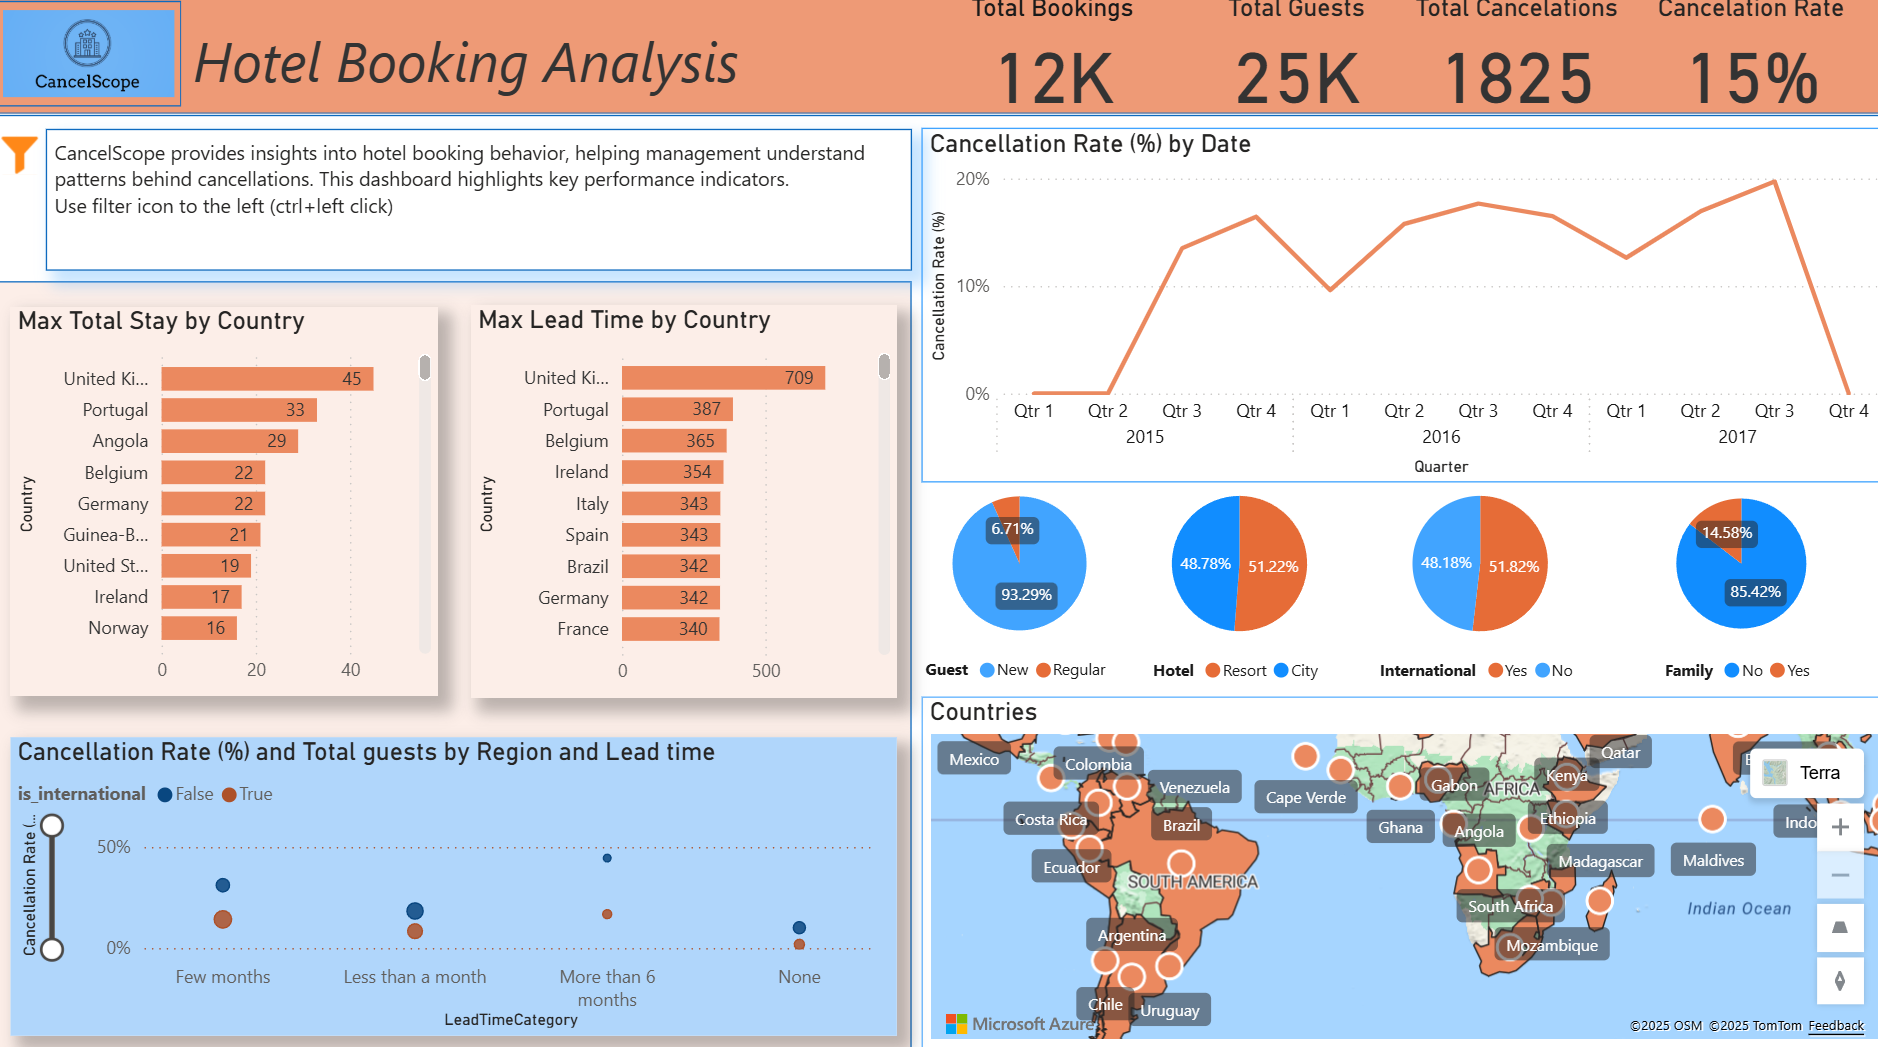

Layout of this report page (visuals, bound fields, positions):
{"tool":"powerbi","page":{"name":"Overview","canvas":[1280,720],"ordinal":0},"visuals":[{"type":"barChart","title":"Max Total Stay by Country","fields":{"Y":["Max(bookings.total_stay)"],"Category":["bookings.country_label"]},"box":[0,222.2,298.9,497.6],"z":0},{"type":"shape","box":[7,200.2,618.7,519.7],"z":1000},{"type":"textbox","box":[34,91.5,585.6,95.9],"z":2000},{"type":"shape","box":[0,0,1279.7,83],"z":3000},{"type":"azureMap","title":"Countries","fields":{"Category":["bookings.country_label"]},"box":[626.4,475.9,654.1,244.1],"z":4000},{"type":"lineChart","title":"Cancellation Rate (%) by Date","fields":{"Category":["bookings.arrival_date.Variation.Date Hierarchy.Year","bookings.arrival_date.Variation.Date Hierarchy.Quarter","bookings.arrival_date.Variation.Date Hierarchy.Month","bookings.arrival_date.Variation.Date Hierarchy.Day"],"Y":["bookings.Cancellation Rate (%)"]},"box":[626.4,91.1,653,240.2],"z":5000},{"type":"pieChart","title":"Family","fields":{"Category":["bookings.Family"],"Y":["CountNonNull(bookings.Family)"]},"box":[1081.5,321.9,198.7,153.9],"z":6000},{"type":"pieChart","title":"Regular","fields":{"Category":["bookings.Guest_Type"],"Y":["CountNonNull(bookings.Guest_Type)"]},"box":[562.5,322.3,260.4,153.7],"z":7000},{"type":"pieChart","title":"International","fields":{"Category":["bookings.International"],"Y":["CountNonNull(bookings.International)"]},"box":[852.9,321.9,302.5,153.9],"z":8000},{"type":"pieChart","title":"Hotel","fields":{"Y":["CountNonNull(bookings.Hotel Type)"],"Category":["bookings.Hotel Type"]},"box":[692.4,321.9,298,153.9],"z":9000},{"type":"textbox","box":[17.1,2.3,828.2,75.6],"z":10000},{"type":"card","title":"Total Guests","fields":{"Values":["Sum(bookings.total_guests)"]},"box":[788.3,0,183.1,83],"z":11000},{"type":"card","title":"Cancelation Rate","fields":{"Values":["bookings.Cancellation Rate (%)"]},"box":[1096.7,0,183.1,83],"z":12000},{"type":"card","title":"Total Cancelations","fields":{"Values":["bookings.total_cancelations"]},"box":[947,0,164.3,83],"z":13000},{"type":"card","title":"Total Bookings","fields":{"Values":["bookings.total_bookings"]},"box":[632.9,0,165.2,83],"z":14000},{"type":"barChart","title":"Max Lead Time by Country","fields":{"Y":["Max(bookings.lead_time)"],"Category":["bookings.country_label"]},"box":[320.7,222.2,298.9,497.6],"z":15000},{"type":"actionButton","box":[0,91.2,34.3,37.4],"z":16000},{"type":"image","box":[0,5.2,126.4,72.3],"z":18000},{"type":"shape","box":[0,5.5,126.2,71.7],"z":19000}]}

Visuals, with their boxes in screenshot pixels (x1, y1, x2, y2), scaled from the page's 1280x720 canvas onto the 1878x1047 screenshot:
"Max Total Stay by Country" barChart: l=0, t=323, r=439, b=1046
shape: l=10, t=291, r=918, b=1046
textbox: l=50, t=133, r=909, b=273
shape: l=0, t=0, r=1877, b=121
"Countries" azureMap: l=919, t=692, r=1877, b=1046
"Cancellation Rate (%) by Date" lineChart: l=919, t=132, r=1877, b=482
"Family" pieChart: l=1587, t=468, r=1877, b=692
"Regular" pieChart: l=825, t=469, r=1207, b=692
"International" pieChart: l=1251, t=468, r=1695, b=692
"Hotel" pieChart: l=1016, t=468, r=1453, b=692
textbox: l=25, t=3, r=1240, b=113
"Total Guests" card: l=1157, t=0, r=1425, b=121
"Cancelation Rate" card: l=1609, t=0, r=1877, b=121
"Total Cancelations" card: l=1389, t=0, r=1630, b=121
"Total Bookings" card: l=929, t=0, r=1171, b=121
"Max Lead Time by Country" barChart: l=471, t=323, r=909, b=1046
actionButton: l=0, t=133, r=50, b=187
image: l=0, t=8, r=185, b=113
shape: l=0, t=8, r=185, b=112
